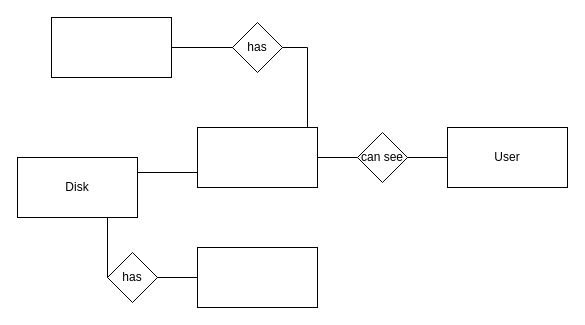
This 585x325 diagram has some shape labels left out. Here are the shapes that lost their labels. From the top down, the centre of each, then its label:
(x=111, y=47): Collector
(x=257, y=157): Collection
(x=257, y=277): Track
